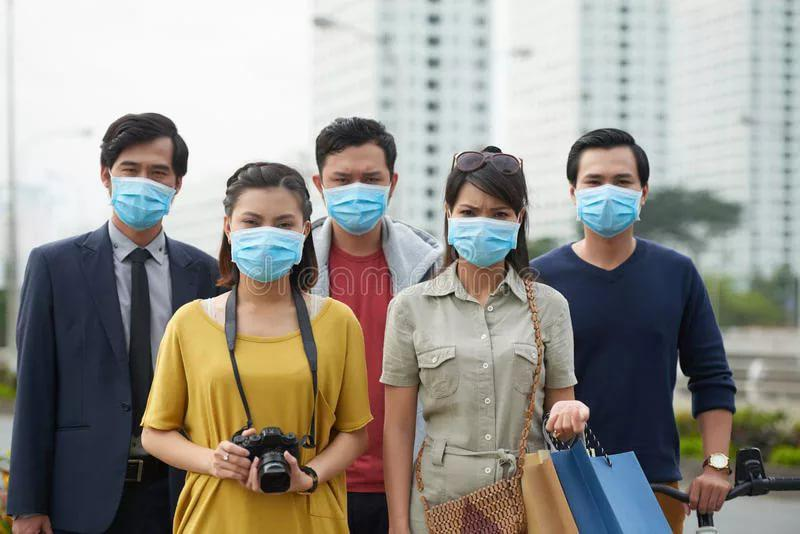mask: (232, 183, 303, 280), (112, 135, 176, 227), (579, 143, 640, 234), (323, 148, 385, 236), (453, 181, 516, 258)
